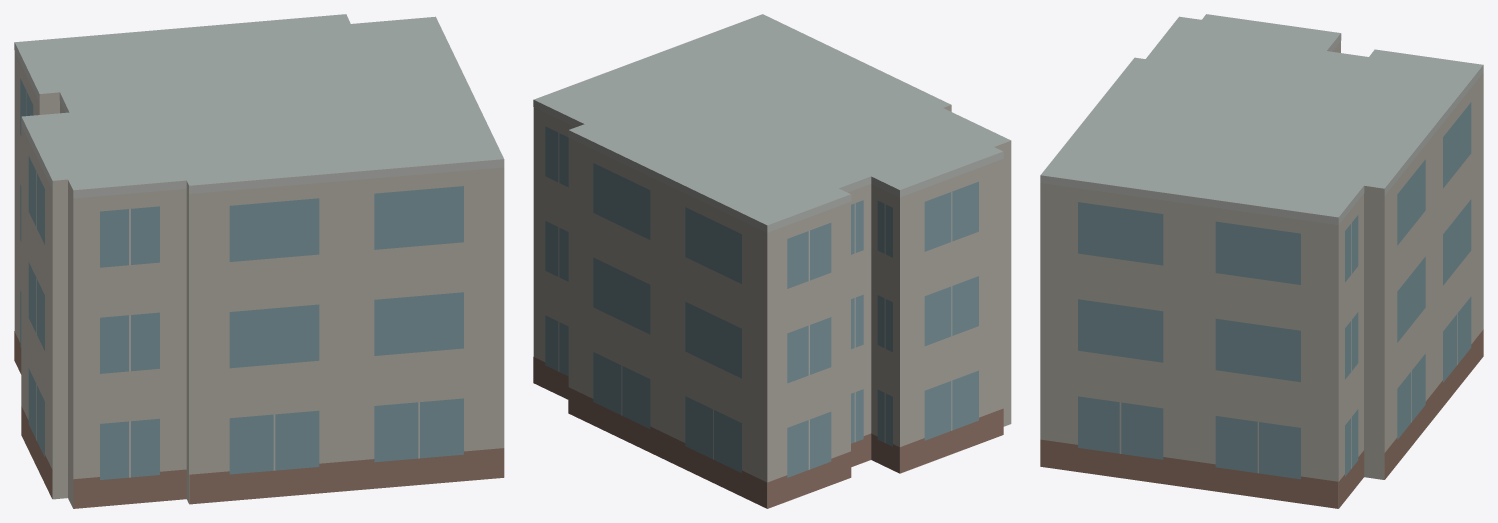
File: survey-upis-32799880.glb
3 renders of one model, left to right at view 1: azimuth 30°, elevation 25°; view 2: azimuth 150°, elevation 25°; view 3: azimuth 270°, elevation 25°, orthographic. The views are drawn at different scales.
Visible parts, largest first — view 1: survey-upis-32799880.tmp; view 2: survey-upis-32799880.tmp; view 3: survey-upis-32799880.tmp.
Part boxes in pixels (box(x1,y1,x2,y2)): survey-upis-32799880.tmp: box(14, 14, 504, 508); survey-upis-32799880.tmp: box(533, 14, 1011, 508); survey-upis-32799880.tmp: box(1040, 14, 1483, 508).
Size of the model in its own units: 14.08 by 9.4 by 12.96.
